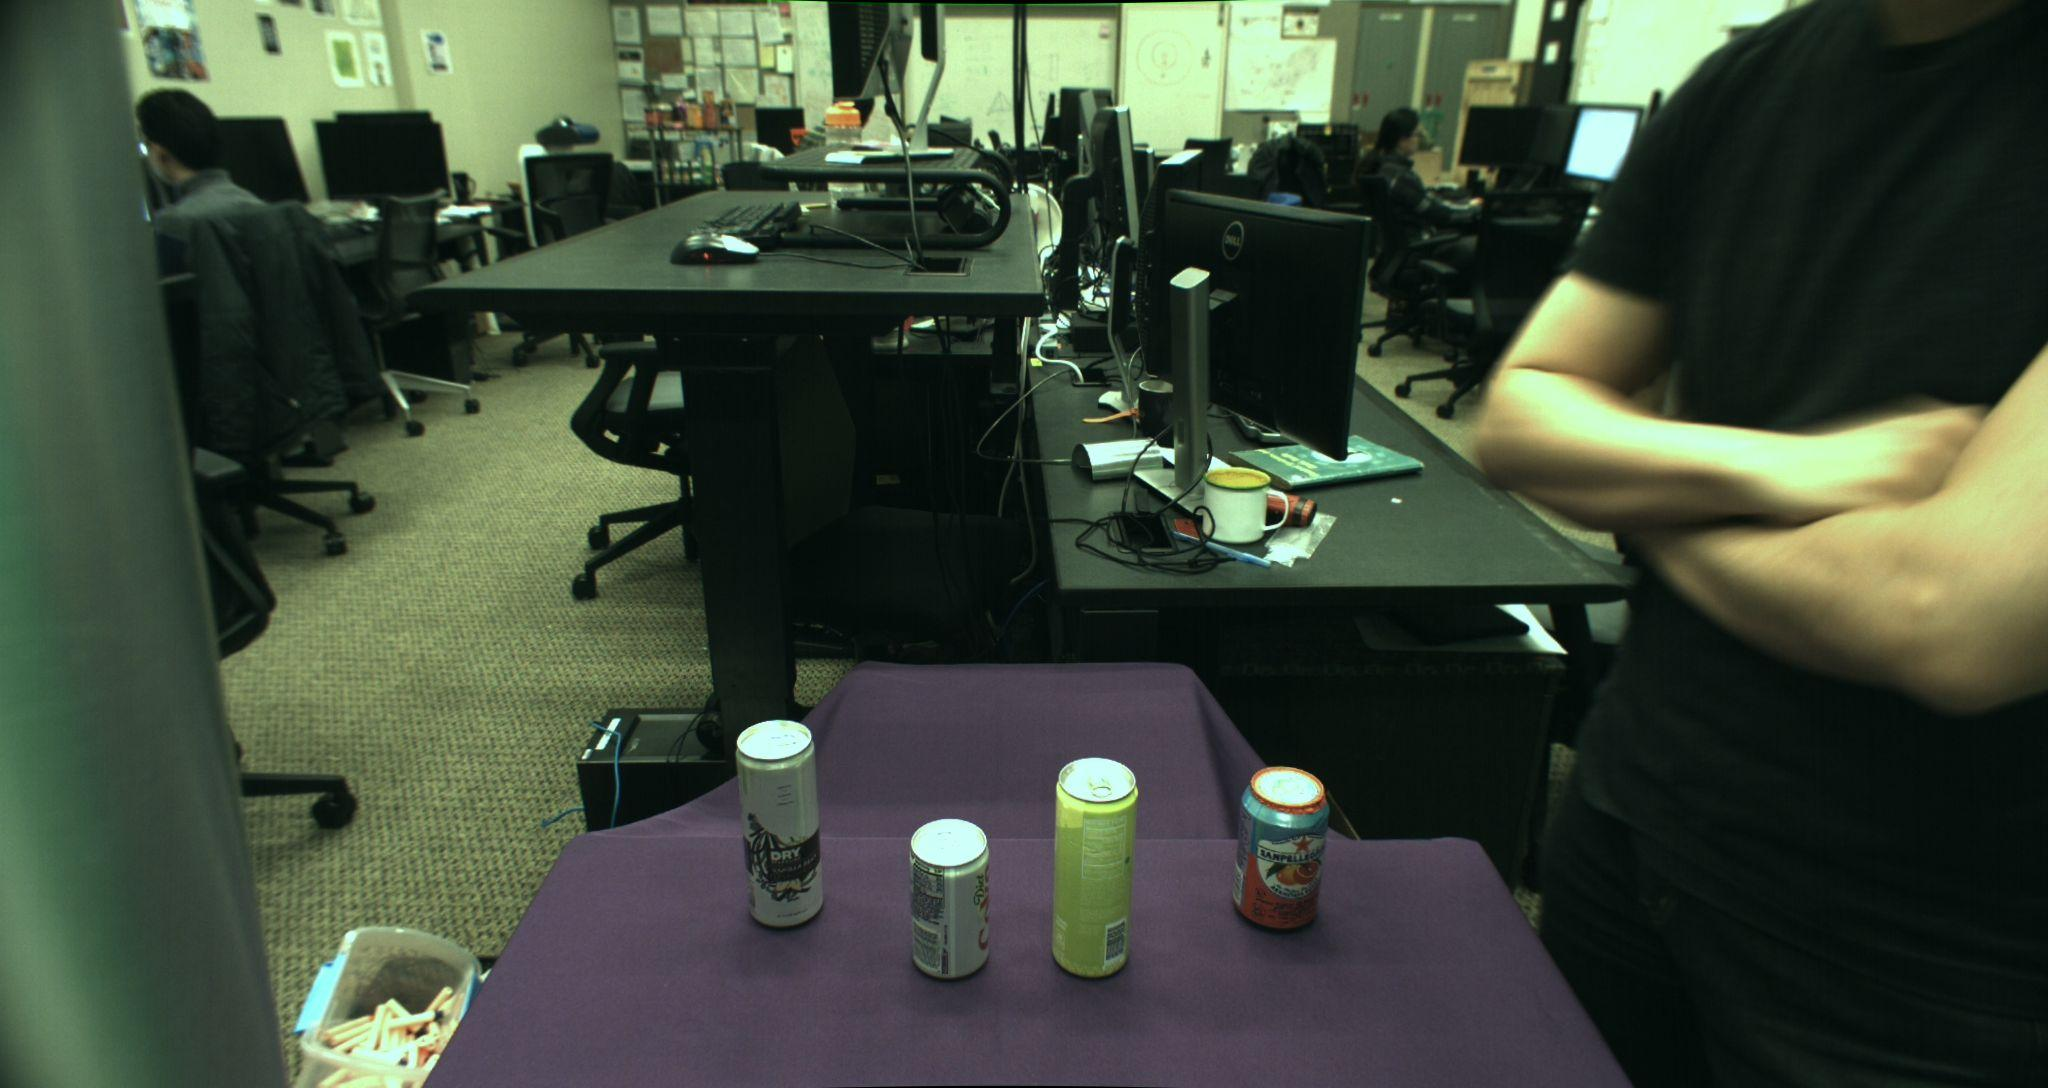can_diet_coke_small: (908, 817, 990, 980)
can_dry_sparkling_vanilla_bean: (734, 718, 824, 928)
can_izze_fusions_lemon_lime: (1050, 755, 1138, 978)
can_sanpellegrino_blood_orange: (1231, 766, 1331, 932)
